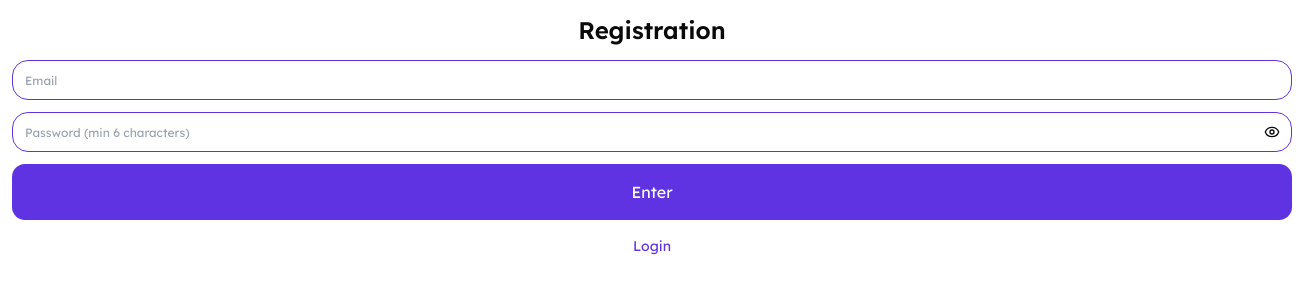
RegisterForm › Form Validation › should validate password length
The image size is (1304, 305).
Type "test@example.com" into the field with placeholder "Email" at (652, 80), box [12,60,1292,100]
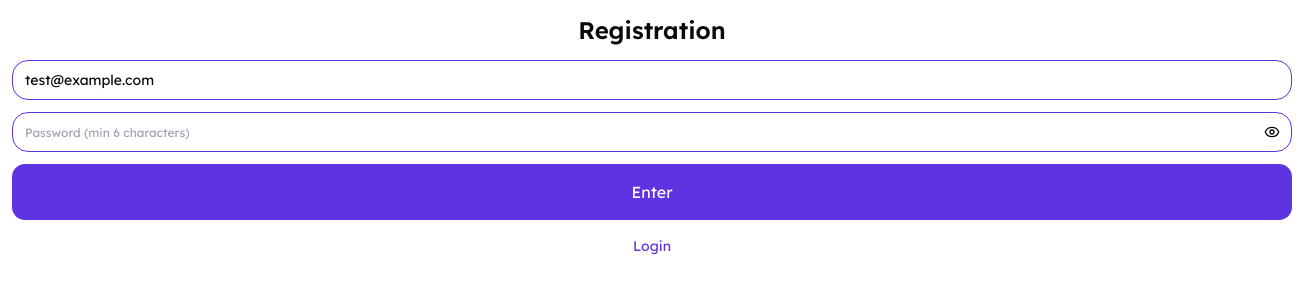
Type "123" into the password field with placeholder "Password (min 6 characters)" at (652, 132), box [12,112,1292,152]
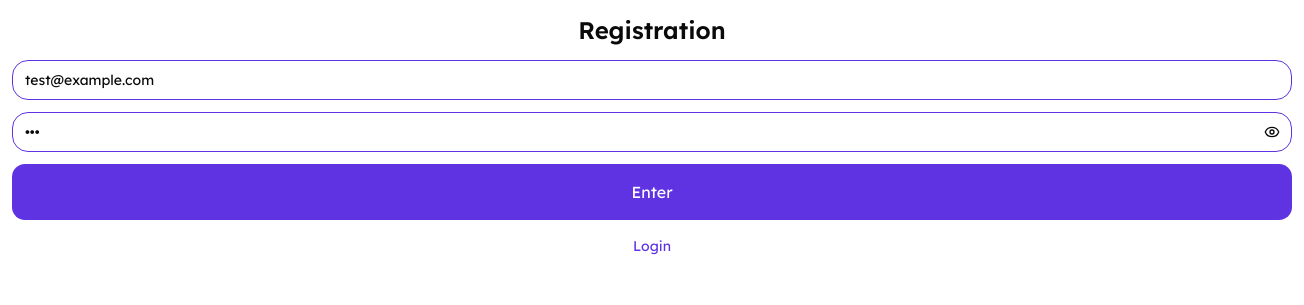
Click the button "Enter" at (652, 192), box [12,164,1292,220]
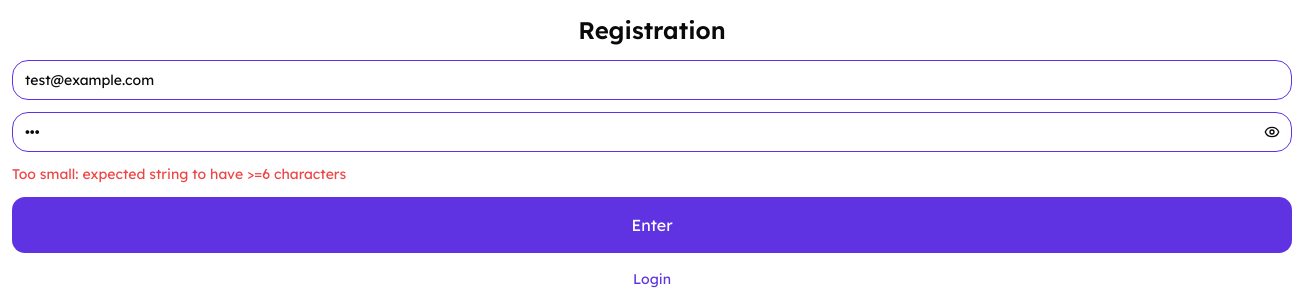
Expected: the text "Too small: expected string to have >=6 characters" is shown, [12,165,346,183]
